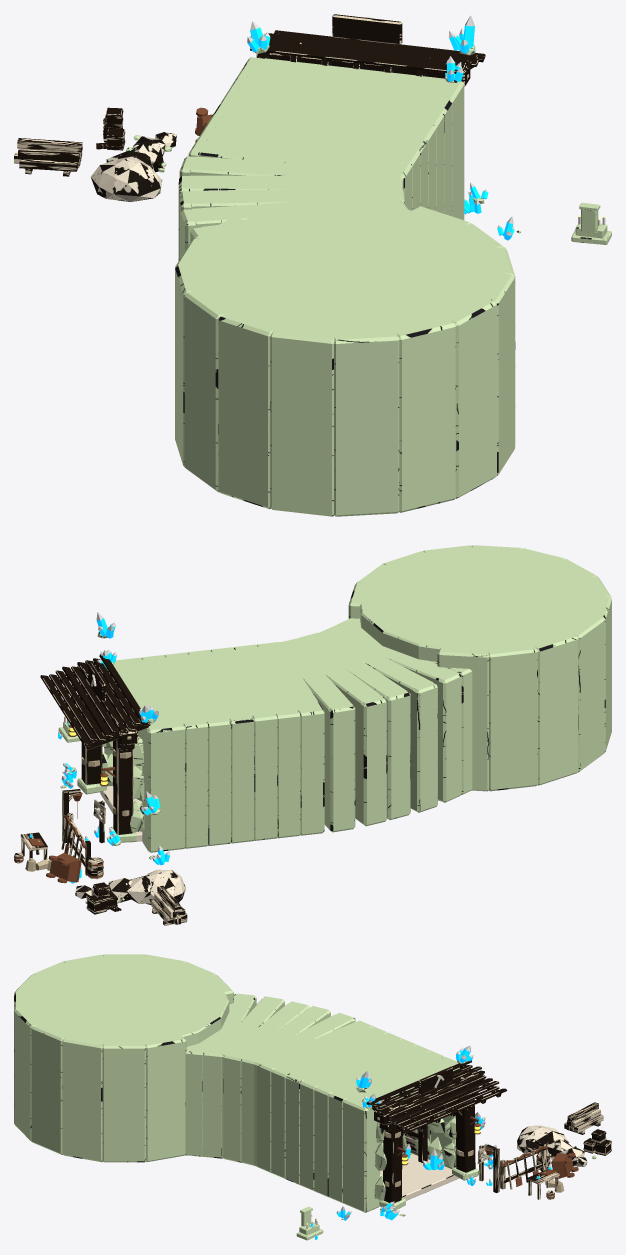
Rendered from LOBBY_04_MINE_286566.fbx.
3 renders of one model, top to bottom at view 1: azimuth 30°, elevation 25°; view 2: azimuth 150°, elevation 25°; view 3: azimuth 270°, elevation 25°, orthographic. The views are drawn at different scales.
Parts seen in each view (by area): view 1: MINE_Tunnel_Shell__Cliff_Rock_Dark, MINE_Entrance_Portal__Wood_Plank_B, MINE_Entrance_Portal__Dirt, MINE_Entrance_Portal__Wood_Dark, MINE_Entrance_Portal__Cliff_Rock_Dark_B, MINE_Entrance_Portal__Crystal_Blue, MINE_Entrance_Portal__Wood_Dark_B; view 2: MINE_Tunnel_Shell__Cliff_Rock_Dark, MINE_Entrance_Portal__Wood_Plank_B, MINE_Entrance_Portal__Wood_Dark, MINE_Entrance_Portal__Dirt, MINE_Entrance_Portal__Metal_Rust, MINE_Entrance_Portal__Crystal_Blue, MINE_Entrance_Portal__Cliff_Rock_Dark_B, MINE_Entrance_Portal__Wood_Dark_B, MINE_Entrance_Portal__Crystal_Blue_Core, MINE_Entrance_Portal__Rope; view 3: MINE_Tunnel_Shell__Cliff_Rock_Dark, MINE_Entrance_Portal__Wood_Plank_B, MINE_Entrance_Portal__Wood_Dark, MINE_Entrance_Portal__Dirt, MINE_Tunnel_Shell__Dirt, MINE_Entrance_Portal__Crystal_Blue, MINE_Entrance_Portal__Metal_Rust, MINE_Entrance_Portal__Cliff_Rock_Dark_B, MINE_Entrance_Portal__Crystal_Blue_Core, MINE_Entrance_Portal__Wood_Dark_B, MINE_Entrance_Portal__Rope.
Boxes of the visible parts, x1,y1,x2,y2 form: MINE_Tunnel_Shell__Cliff_Rock_Dark: [175, 57, 515, 516]; MINE_Entrance_Portal__Wood_Plank_B: [14, 30, 485, 171]; MINE_Entrance_Portal__Dirt: [91, 132, 176, 201]; MINE_Entrance_Portal__Wood_Dark: [25, 14, 473, 176]; MINE_Entrance_Portal__Cliff_Rock_Dark_B: [126, 45, 611, 244]; MINE_Entrance_Portal__Crystal_Blue: [247, 25, 514, 240]; MINE_Entrance_Portal__Wood_Dark_B: [96, 107, 124, 150]; MINE_Tunnel_Shell__Cliff_Rock_Dark: [102, 545, 611, 852]; MINE_Entrance_Portal__Wood_Plank_B: [14, 654, 187, 924]; MINE_Entrance_Portal__Wood_Dark: [21, 662, 186, 925]; MINE_Entrance_Portal__Dirt: [75, 869, 186, 904]; MINE_Entrance_Portal__Metal_Rust: [14, 718, 115, 883]; MINE_Entrance_Portal__Crystal_Blue: [29, 618, 169, 883]; MINE_Entrance_Portal__Cliff_Rock_Dark_B: [38, 632, 160, 903]; MINE_Entrance_Portal__Wood_Dark_B: [87, 799, 121, 914]; MINE_Entrance_Portal__Crystal_Blue_Core: [30, 612, 169, 869]; MINE_Entrance_Portal__Rope: [25, 701, 131, 908]; MINE_Tunnel_Shell__Cliff_Rock_Dark: [14, 954, 459, 1212]; MINE_Entrance_Portal__Wood_Plank_B: [366, 1060, 603, 1199]; MINE_Entrance_Portal__Wood_Dark: [372, 1065, 611, 1202]; MINE_Entrance_Portal__Dirt: [517, 1125, 587, 1166]; MINE_Tunnel_Shell__Dirt: [380, 1143, 459, 1200]; MINE_Entrance_Portal__Crystal_Blue: [309, 1048, 551, 1239]; MINE_Entrance_Portal__Metal_Rust: [397, 1116, 578, 1198]; MINE_Entrance_Portal__Cliff_Rock_Dark_B: [296, 1060, 596, 1240]; MINE_Entrance_Portal__Crystal_Blue_Core: [309, 1045, 552, 1236]; MINE_Entrance_Portal__Wood_Dark_B: [477, 1129, 611, 1163]; MINE_Entrance_Portal__Rope: [377, 1071, 564, 1192].
Size of the model in its own units: 61.86 by 23.83 by 88.37.
13 materials, 3 textured.
